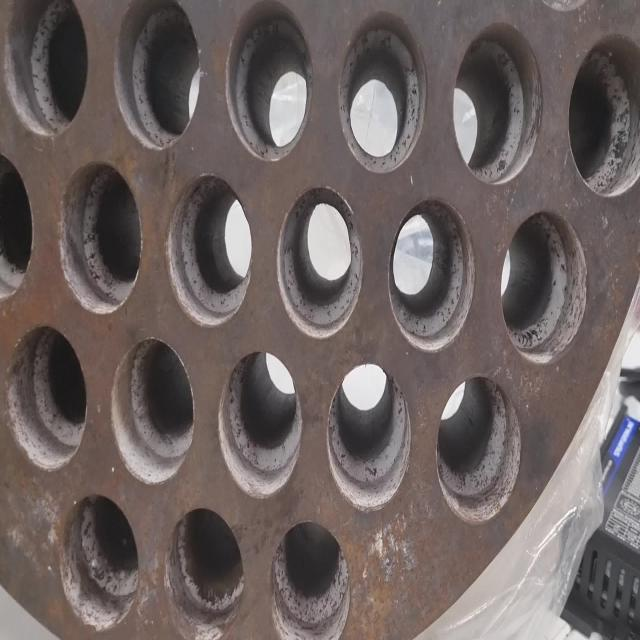Hole: (451, 22, 543, 185), (338, 10, 427, 174), (225, 1, 312, 162), (387, 196, 476, 352), (500, 210, 588, 364), (276, 186, 364, 339), (113, 1, 202, 150), (166, 174, 252, 328), (435, 375, 521, 525), (58, 162, 141, 316), (326, 363, 411, 512), (217, 351, 302, 499), (110, 338, 194, 486), (6, 323, 88, 471), (567, 33, 640, 198), (3, 0, 88, 137), (60, 491, 139, 631), (164, 504, 244, 630), (270, 520, 349, 640), (0, 150, 34, 303)
